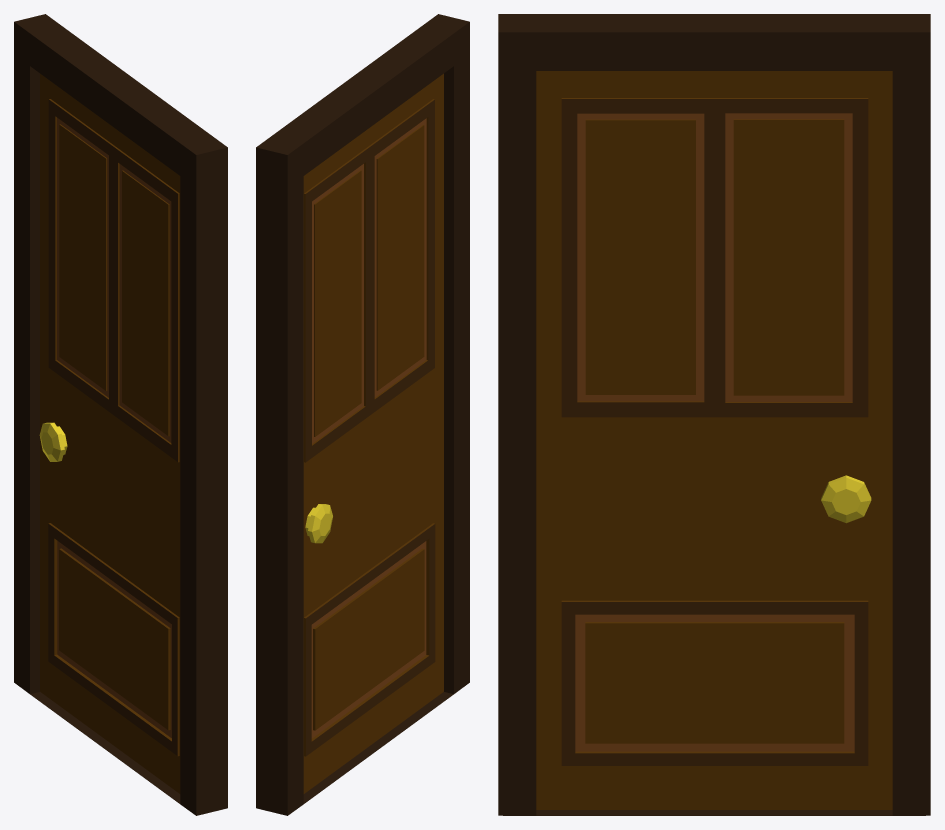
Rendered from door.glb.
The picture shows the model from 3 angles, left to right: view 1: azimuth 30°, elevation 25°; view 2: azimuth 150°, elevation 25°; view 3: azimuth 270°, elevation 25°; orthographic projection. The views are drawn at different scales.
Parts seen in each view (by area): view 1: Door, Frame; view 2: Door, Frame; view 3: Door, Frame.
Boxes of the visible parts, x1,y1,x2,y2 form: Door: (39,73,180,793); Frame: (14,14,227,815); Door: (303,73,443,793); Frame: (256,14,469,815); Door: (536,71,892,809); Frame: (498,14,930,815).
Bounding box in the file's own units: 0.114 × 2 × 1.
